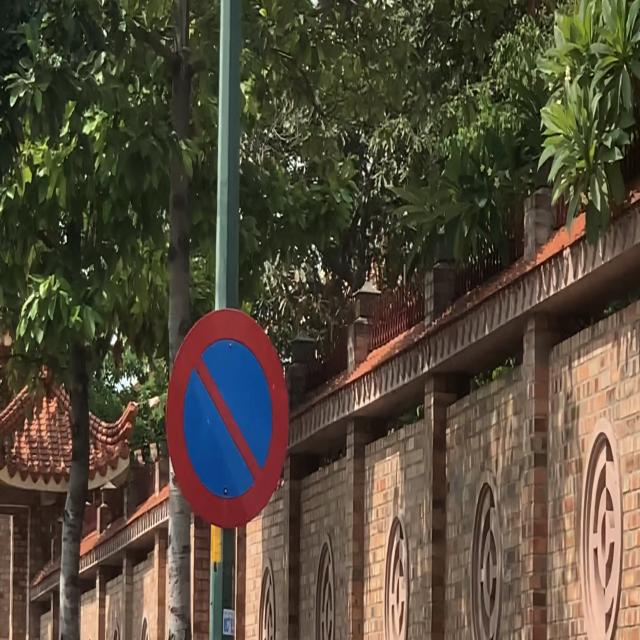Cam do: (164, 304, 290, 532)
